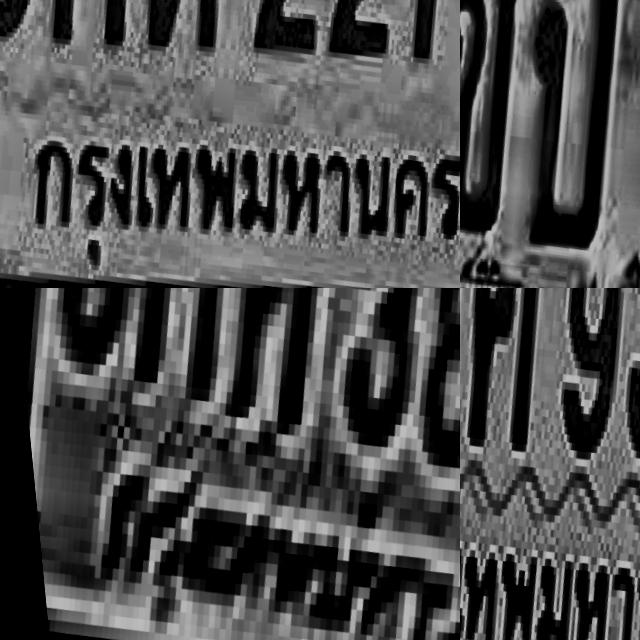license-plate: (0, 288, 460, 640), (0, 0, 460, 288), (460, 288, 640, 640), (460, 0, 640, 288)
